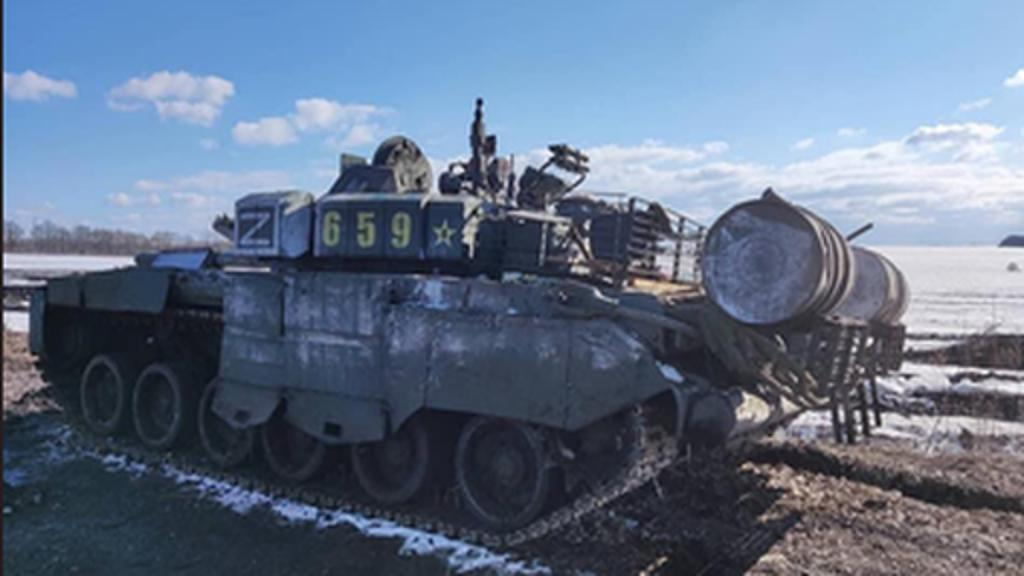TANK: (22, 134, 902, 550)
